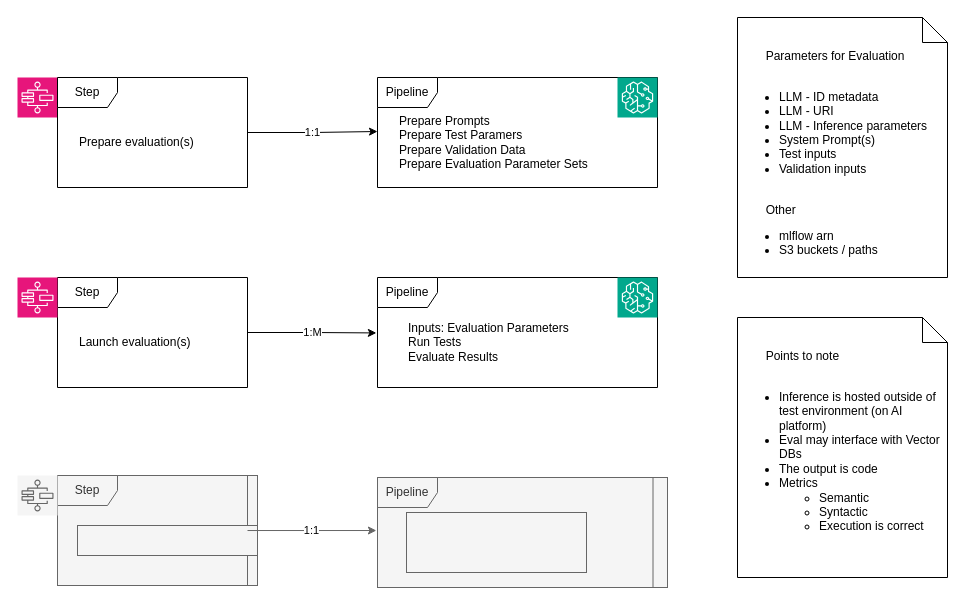
Some shapes in this 965 by 605 pixel diagram are drawn without their labels. Here are the shapes that lost their labels. From the top down, the centre of each, then its label:
the point at 167,540: Generate evaluation report(s)
the point at 496,542: Inputs: Evaluation Parameters Evaluation Report Evaluation Jobs Report
